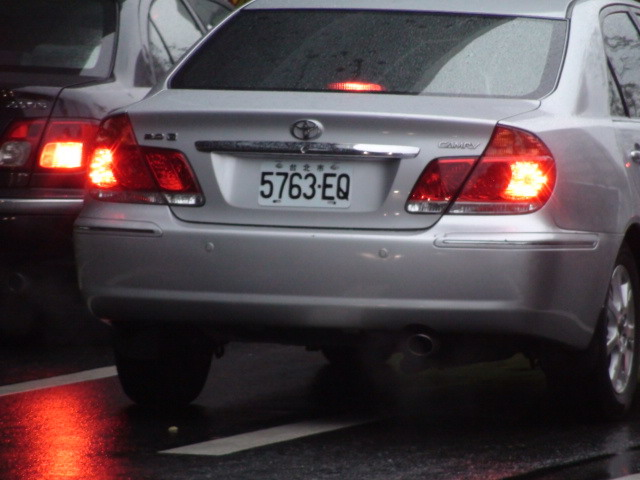plate: (255, 157, 354, 213)
